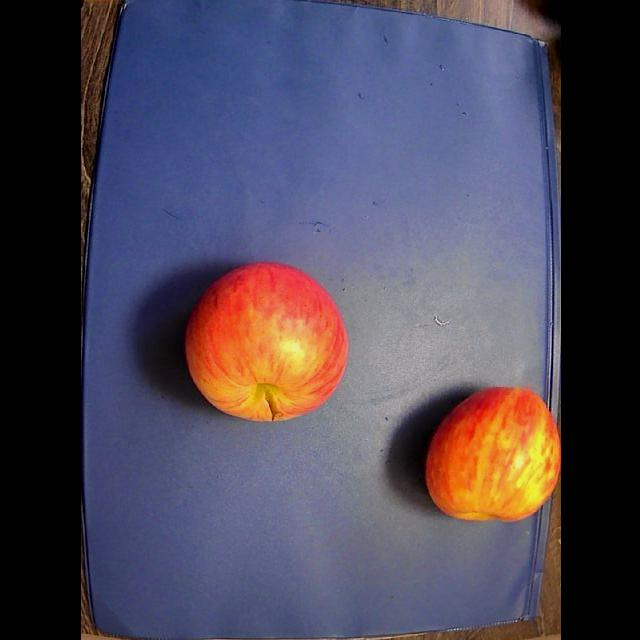manzana: (185, 264, 346, 421), (426, 390, 560, 521)
